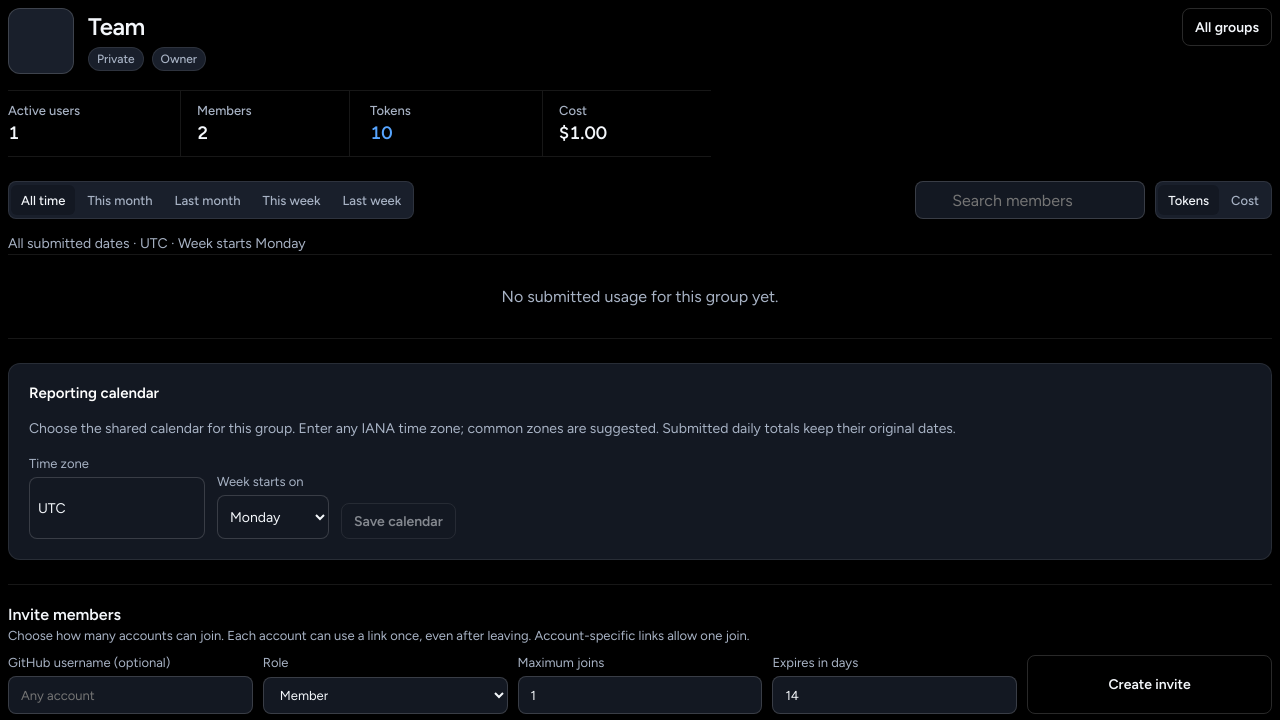
Test case: creates a reusable invite once, shows usage, and preserves the link on failed revocation
Replace the text in the number field labelled "Maximum joins" with "5" at (640, 695), box [518,676,762,714]
Replace the text in the number field labelled "Expires in days" with "7" at (895, 695), box [772,676,1017,714]
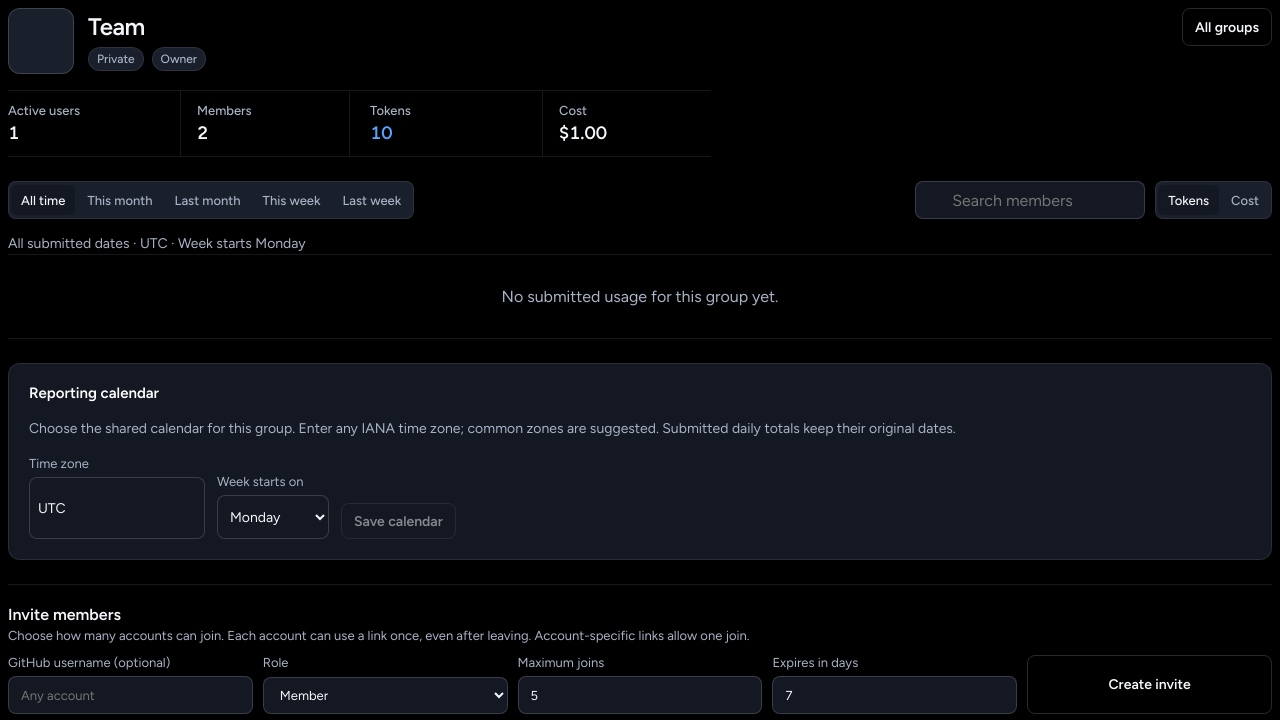
Click the button "Create invite".
click(1150, 685)  # box [1027,655,1272,714]
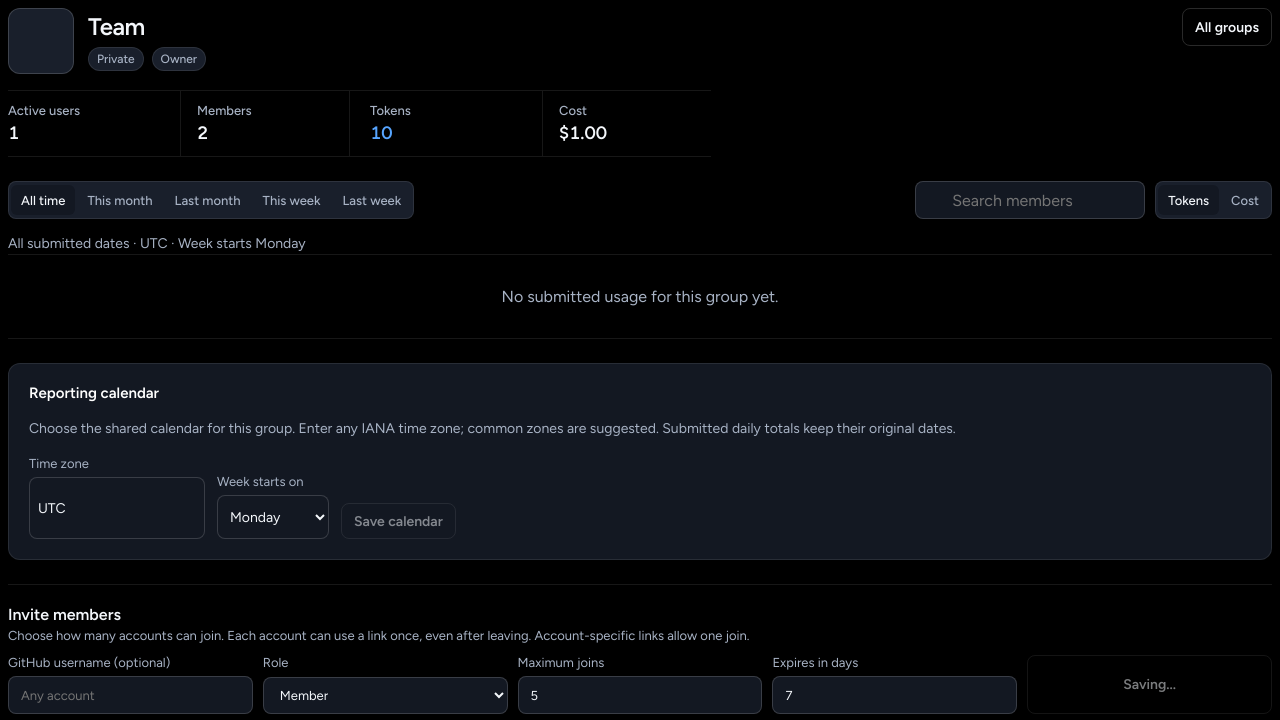
Click the button named "Create invite".
click(1150, 685)  # box [1027,655,1272,714]
(page scrolled)
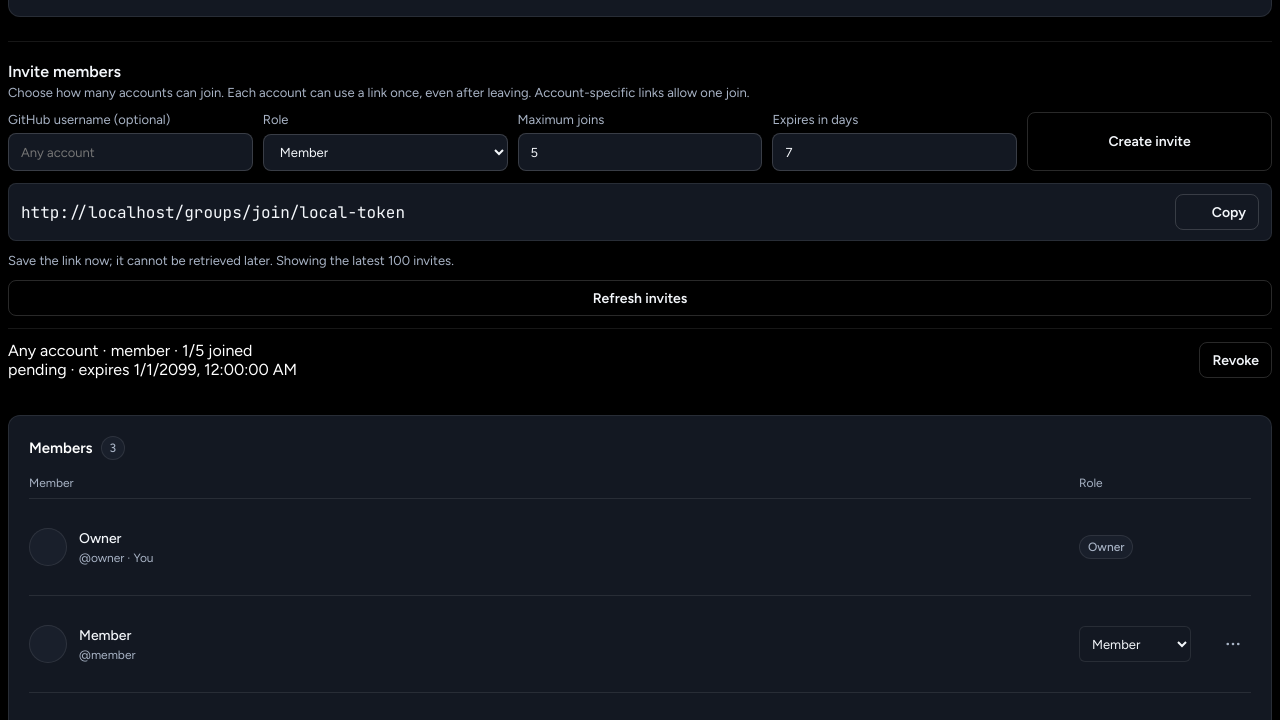
Expected: the text "1/5 joined" is shown, [8,341,297,379]
Click the button "Revoke".
click(1236, 360)  # box [1199,342,1272,378]
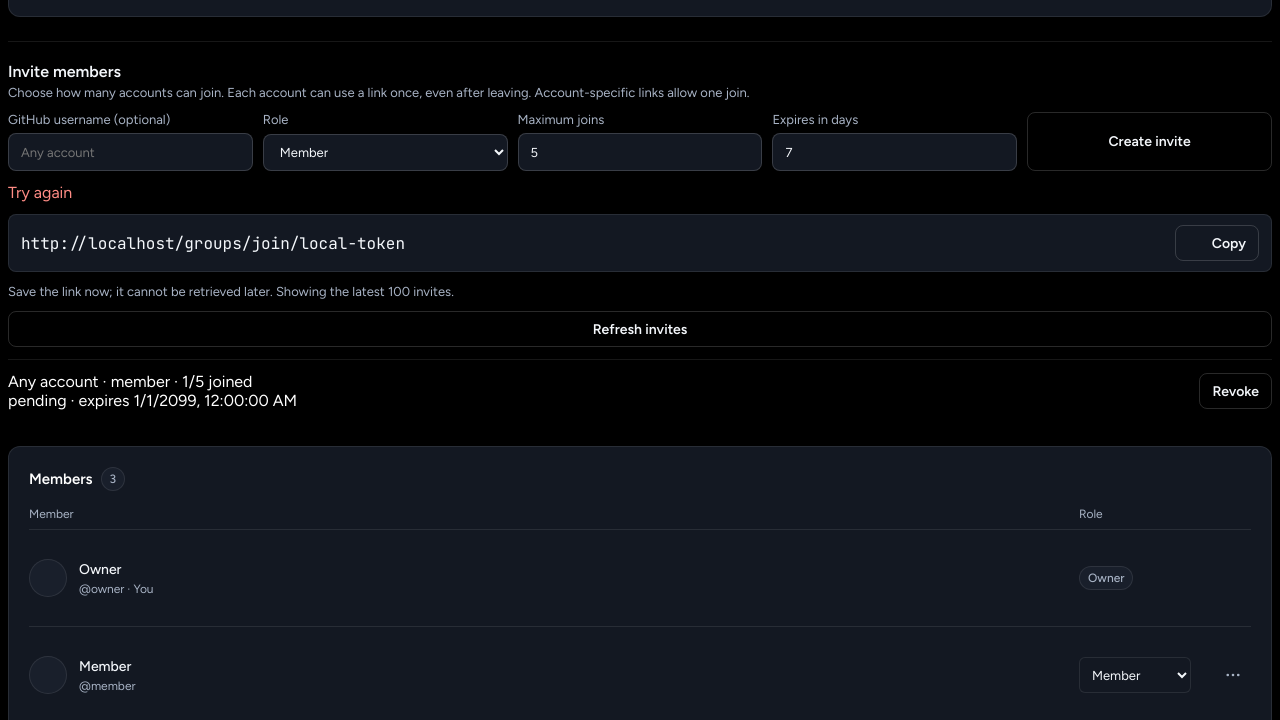
Expected: the button with aria-label "Copy invite link" is shown, [1175,225,1259,261]
Expected: the message reads "Try again", [8,183,72,202]
Click the button "Revoke".
click(1236, 391)  # box [1199,373,1272,409]
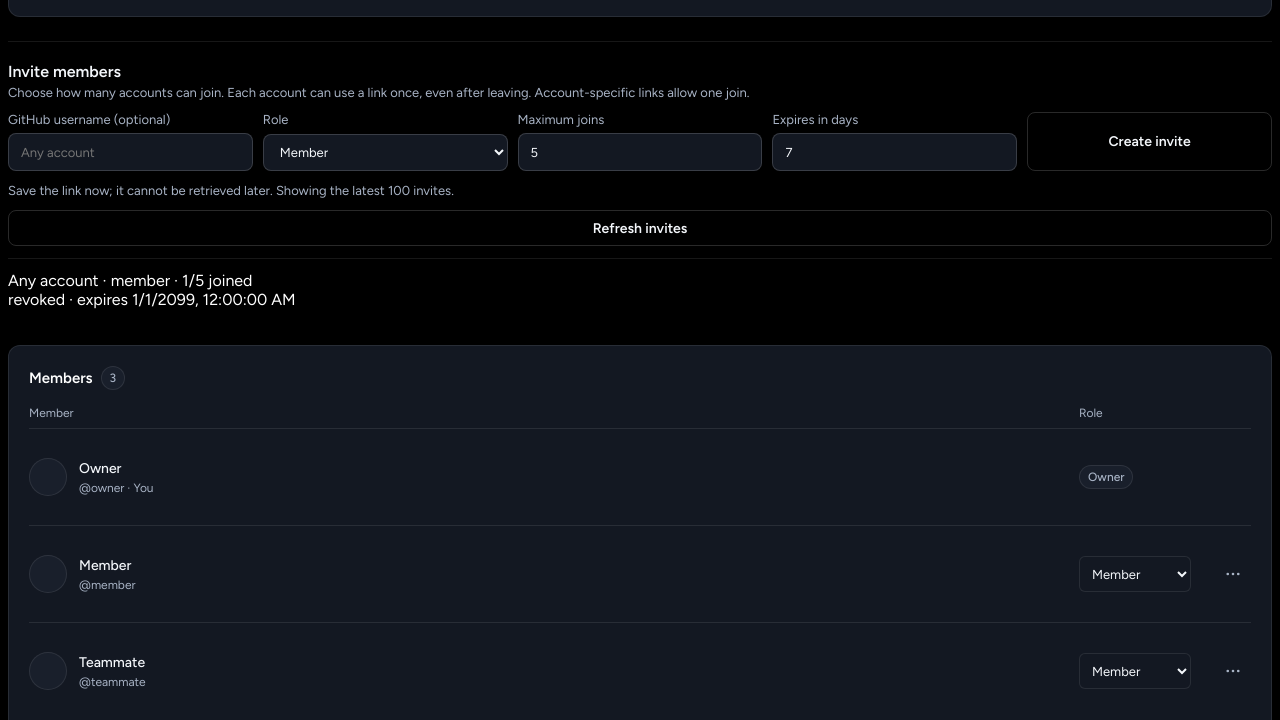
Expected: the text "revoked" is shown, [8,290,65,309]
Type "alice" into the field named "Invitee GitHub username".
click(130, 152); type("alice")  # box [8,133,253,171]
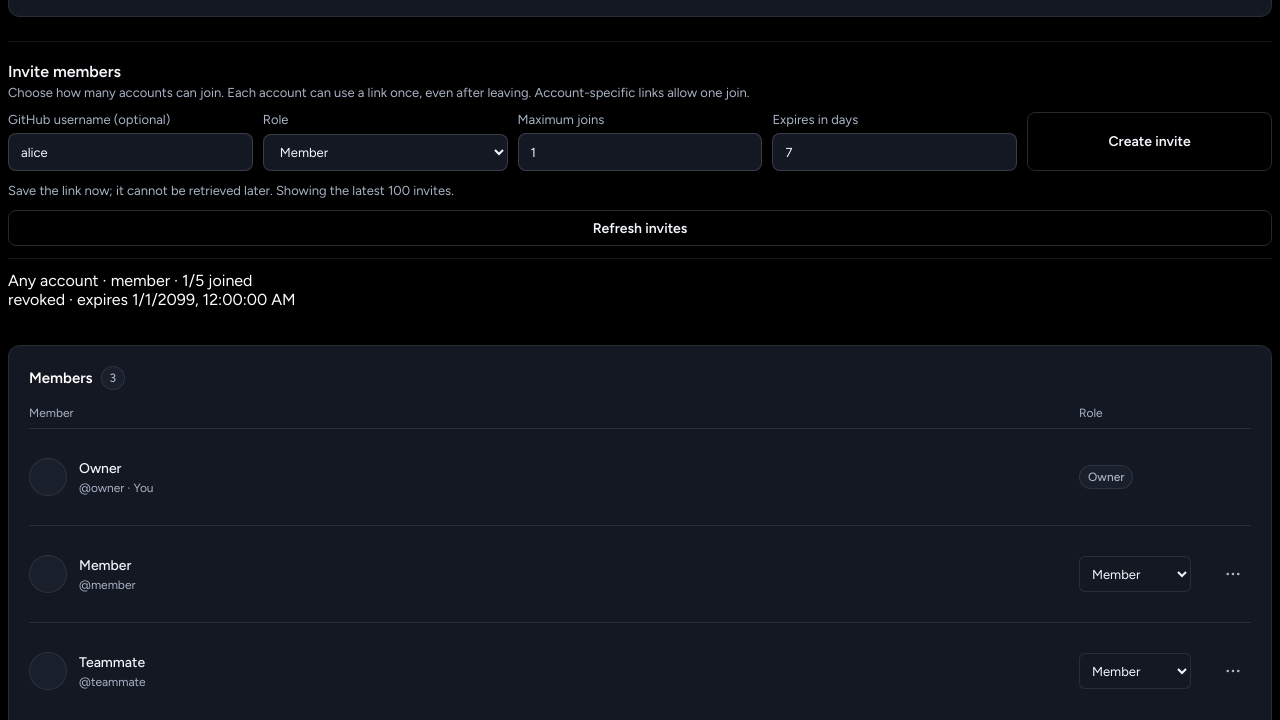
Expected: the number field labelled "Maximum joins" is disabled, [518,133,762,171]
Expected: the number field labelled "Maximum joins" holds "1", [518,133,762,171]
